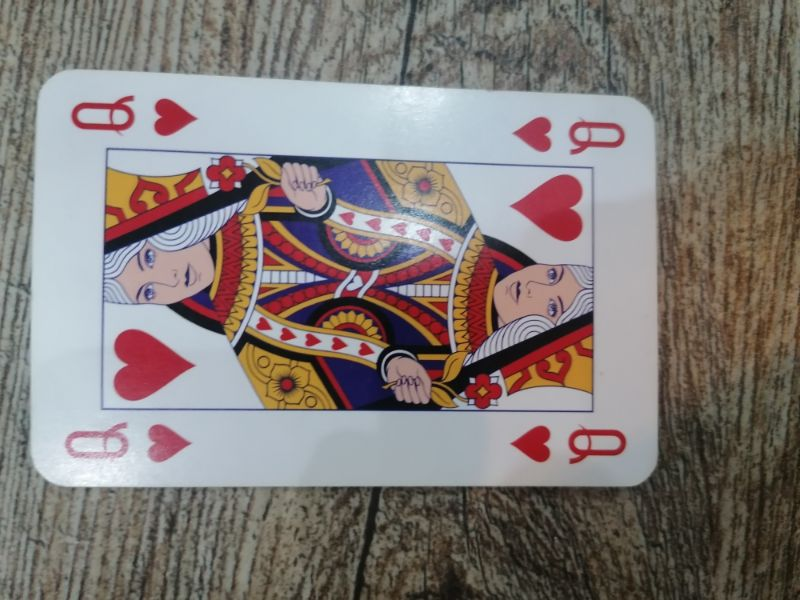Qh: (58, 415, 196, 471), (63, 89, 199, 142), (505, 418, 636, 469), (509, 109, 634, 159)
